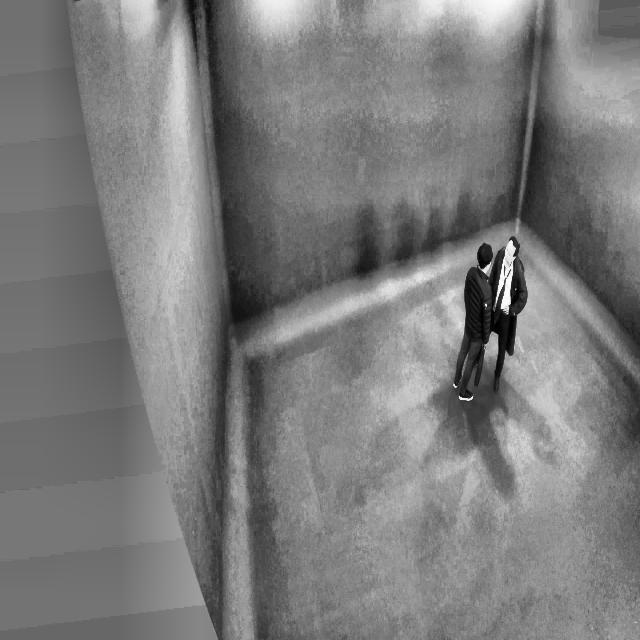assult: (444, 215, 535, 416)
